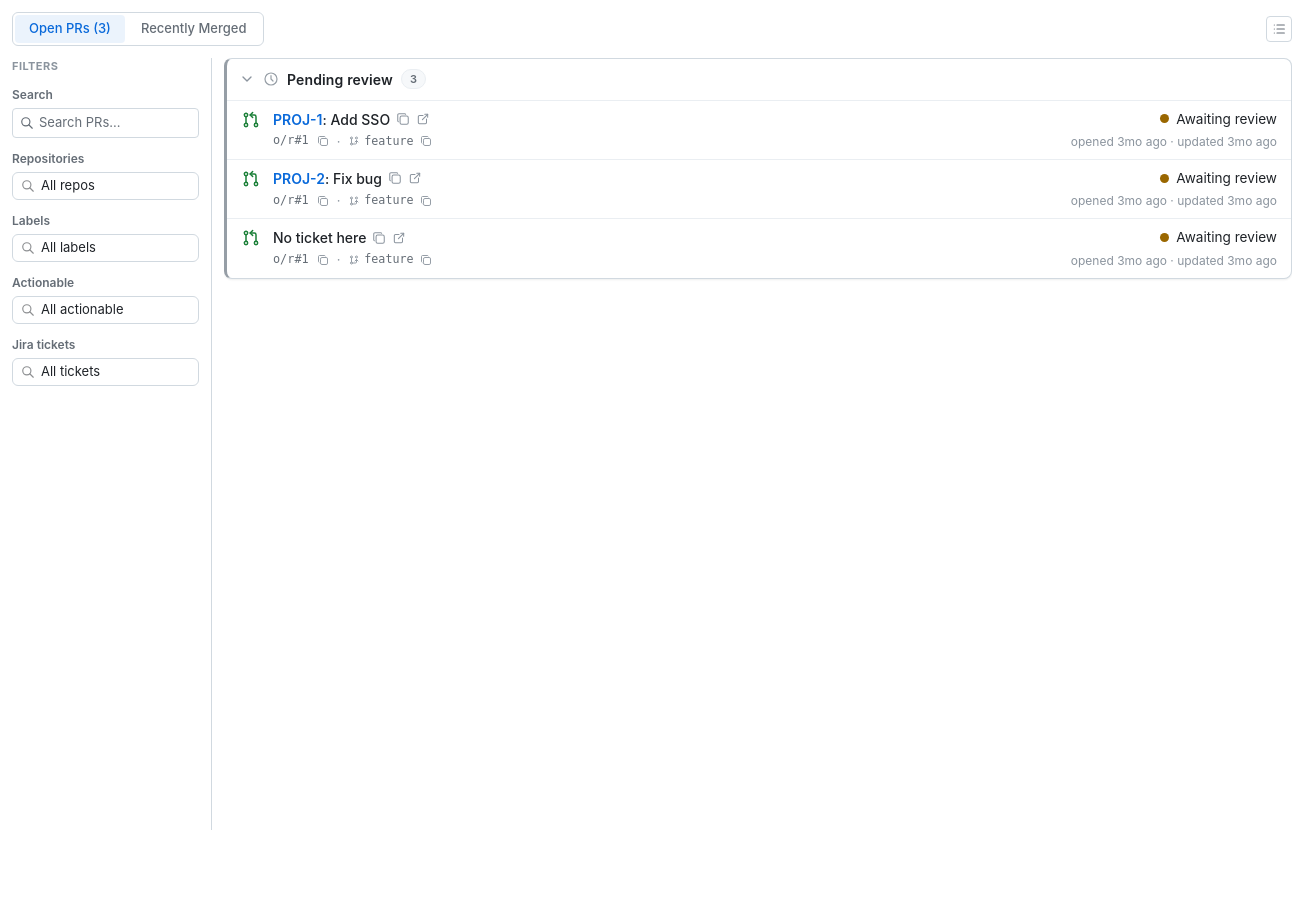
PRsView sidebar filters › 'Jira tickets' filter narrows by ticket key and labels options with the Jira summary
Expected: the button "Open PRs (3)" is shown, [15, 15, 125, 42]
Click the dropdown "All tickets".
click(106, 372)  # box [12, 358, 199, 386]
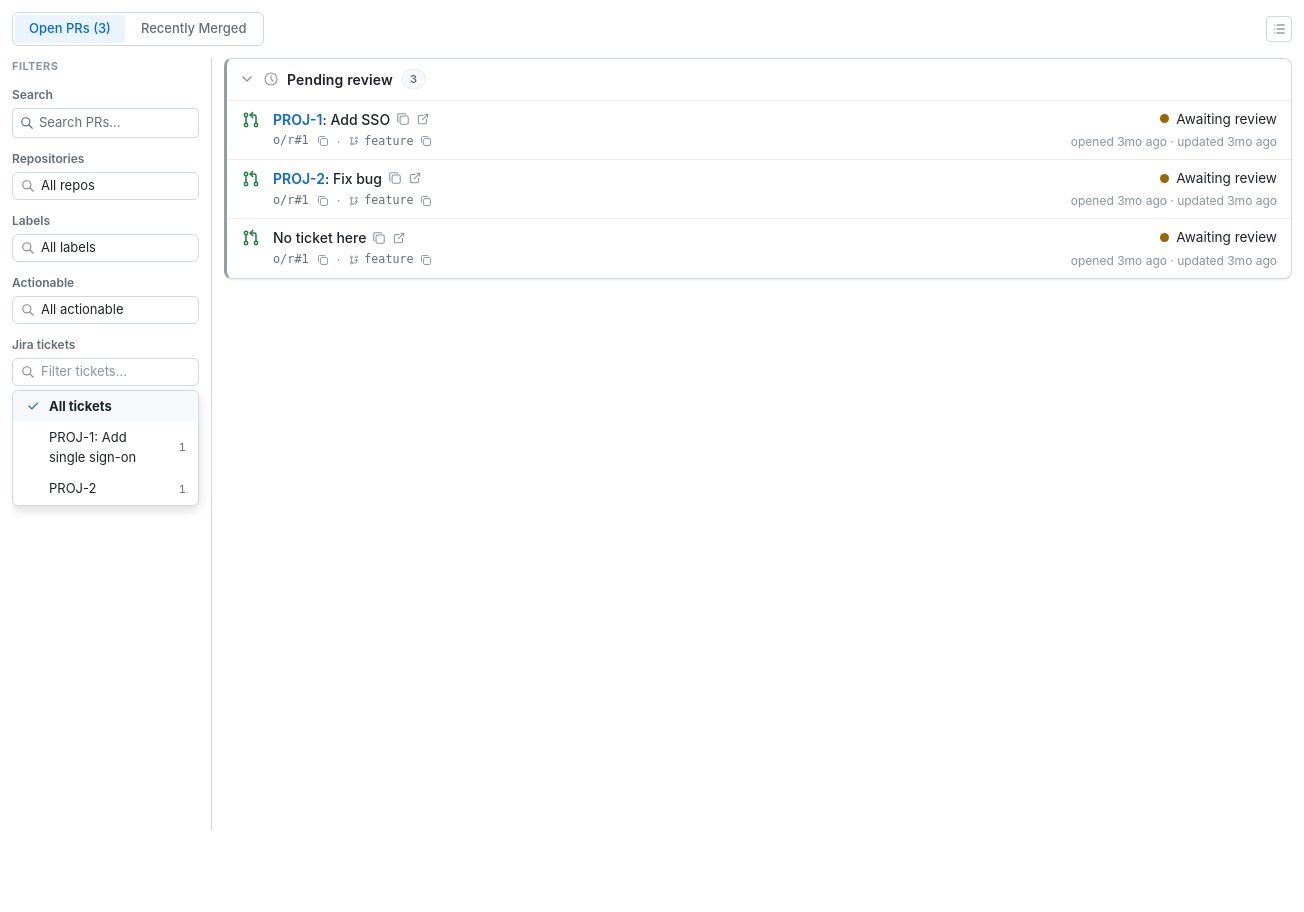
Press the mouse on the text "PROJ-1: Add single sign-on" at (118, 447), box [49, 429, 186, 464]
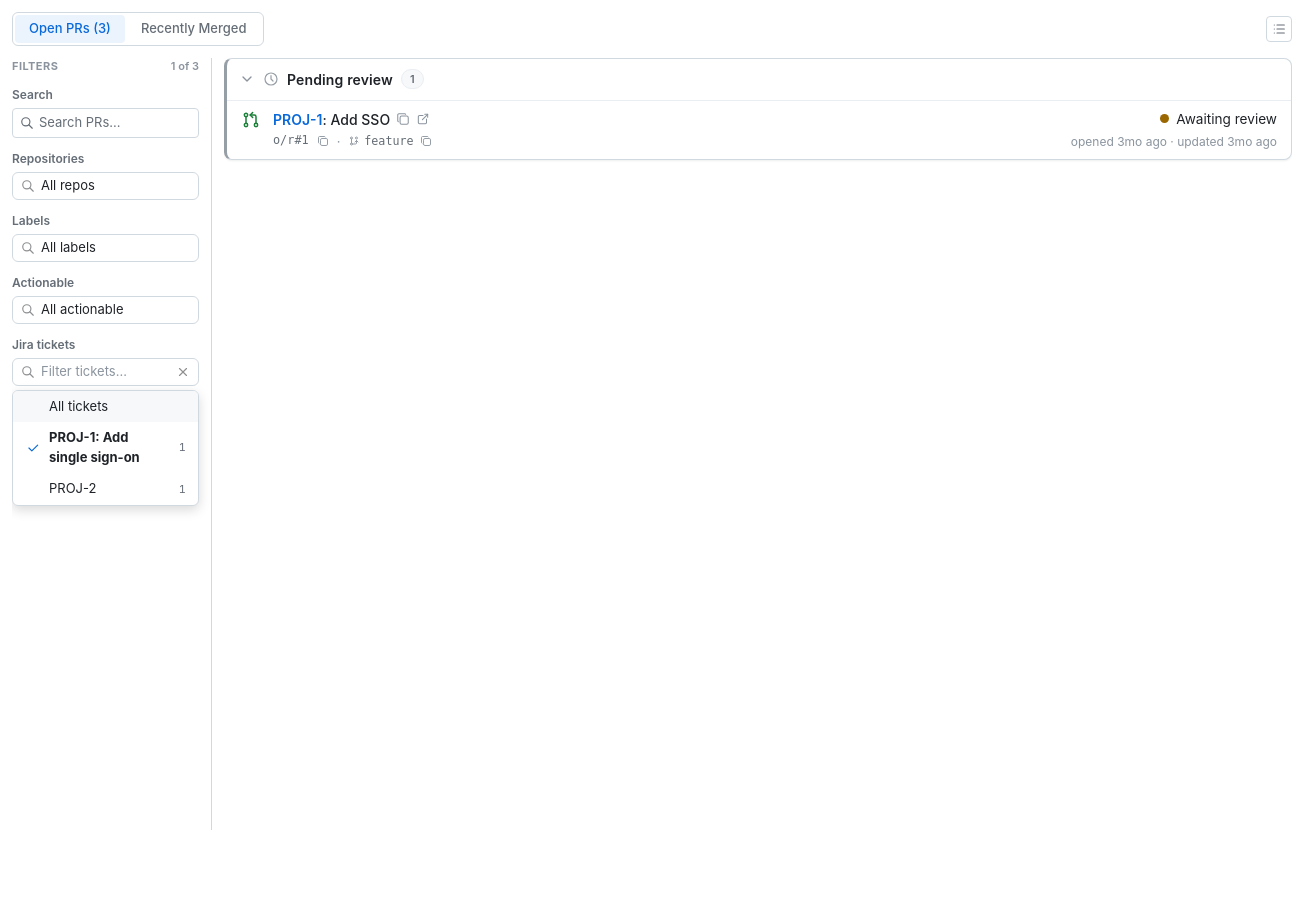
Expected: the text "1 of 3" is shown, [171, 58, 199, 74]
